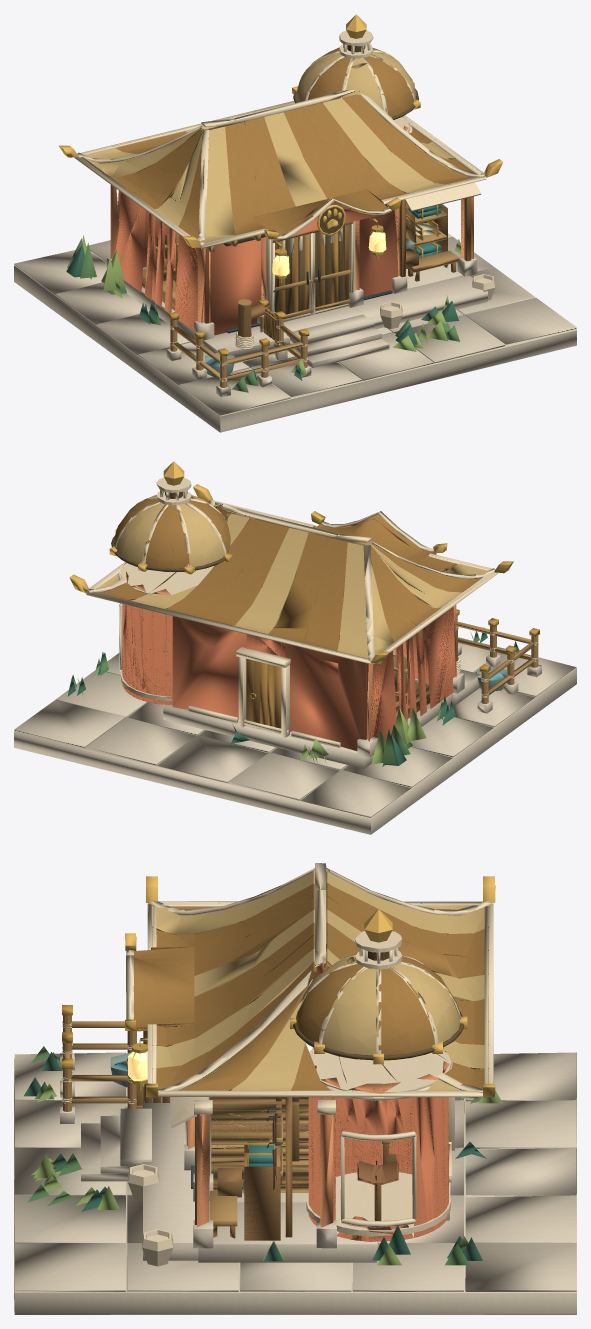
Rendered from beast-lod2-2711d6ed3763.glb.
3 renders of one model, top to bottom at view 1: azimuth 30°, elevation 25°; view 2: azimuth 150°, elevation 25°; view 3: azimuth 270°, elevation 25°, orthographic. The views are drawn at different scales.
Parts seen in each view (by area): view 1: BZbatch_0.003, BZbatch_38.003, BZbatch_6.003, BZbatch_35.003, BZbatch_40.003, BZbatch_47.003, BZbatch_70.003, BZbatch_41.003, BZbatch_12.003, BZbatch_42.003, BZbatch_91.003, BZbatch_61.003 (+3 smaller); view 2: BZbatch_0.003, BZbatch_6.003, BZbatch_38.003, BZbatch_40.003, BZbatch_35.003, BZbatch_47.003, BZbatch_42.003, BZbatch_91.003, BZbatch_86.003, BZbatch_90.003, BZbatch_41.003, BZbatch_12.003; view 3: BZbatch_0.003, BZbatch_38.003, BZbatch_40.003, BZbatch_35.003, BZbatch_6.003, BZbatch_70.003, BZbatch_47.003, BZbatch_12.003, BZbatch_42.003, BZbatch_86.003, BZbatch_91.003, BZbatch_41.003 (+3 smaller).
Boxes of the visible parts, left/top/right/bottom form: BZbatch_0.003: left=14, top=233, right=576, bottom=432; BZbatch_38.003: left=103, top=48, right=481, bottom=347; BZbatch_6.003: left=115, top=191, right=398, bottom=335; BZbatch_35.003: left=80, top=52, right=456, bottom=248; BZbatch_40.003: left=74, top=30, right=495, bottom=381; BZbatch_47.003: left=142, top=210, right=458, bottom=387; BZbatch_70.003: left=142, top=191, right=471, bottom=361; BZbatch_41.003: left=102, top=45, right=455, bottom=314; BZbatch_12.003: left=110, top=126, right=473, bottom=323; BZbatch_42.003: left=59, top=14, right=502, bottom=248; BZbatch_91.003: left=82, top=235, right=460, bottom=375; BZbatch_61.003: left=168, top=205, right=472, bottom=356; BZbatch_0.003: left=14, top=637, right=576, bottom=834; BZbatch_6.003: left=122, top=518, right=456, bottom=750; BZbatch_38.003: left=93, top=498, right=482, bottom=728; BZbatch_40.003: left=86, top=477, right=538, bottom=747; BZbatch_35.003: left=92, top=495, right=490, bottom=663; BZbatch_47.003: left=394, top=616, right=538, bottom=716; BZbatch_42.003: left=69, top=461, right=513, bottom=663; BZbatch_91.003: left=78, top=632, right=473, bottom=764; BZbatch_86.003: left=67, top=627, right=518, bottom=766; BZbatch_90.003: left=68, top=631, right=519, bottom=763; BZbatch_41.003: left=111, top=491, right=470, bottom=641; BZbatch_12.003: left=126, top=571, right=456, bottom=741; BZbatch_0.003: left=14, top=1052, right=576, bottom=1314; BZbatch_38.003: left=132, top=883, right=488, bottom=1105; BZbatch_40.003: left=62, top=863, right=493, bottom=1266; BZbatch_35.003: left=152, top=870, right=488, bottom=1090; BZbatch_6.003: left=254, top=950, right=448, bottom=1241; BZbatch_70.003: left=143, top=1023, right=396, bottom=1240; BZbatch_47.003: left=63, top=1015, right=389, bottom=1226; BZbatch_12.003: left=188, top=1051, right=449, bottom=1227; BZbatch_42.003: left=125, top=876, right=495, bottom=1151; BZbatch_86.003: left=24, top=1052, right=486, bottom=1261; BZbatch_91.003: left=31, top=1083, right=502, bottom=1265; BZbatch_41.003: left=152, top=883, right=488, bottom=1090.
Bounding box in the file's own units: 9.99 × 6.82 × 9.99.
23 materials, 11 textured.
